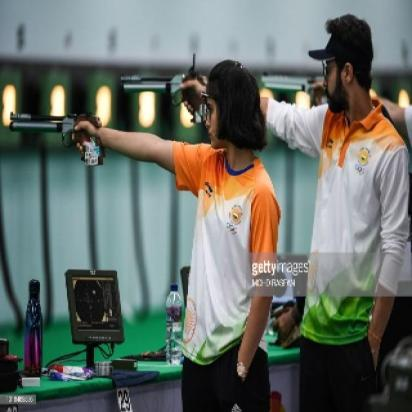Gun: (5, 108, 108, 169), (111, 71, 206, 123), (256, 68, 320, 97)
